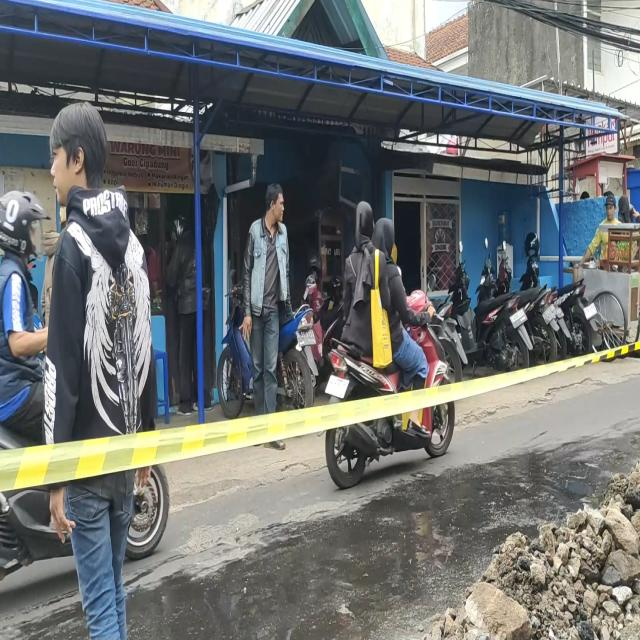helmet: (1, 193, 40, 261)
no-helmet: (356, 208, 375, 245), (377, 218, 393, 254)
